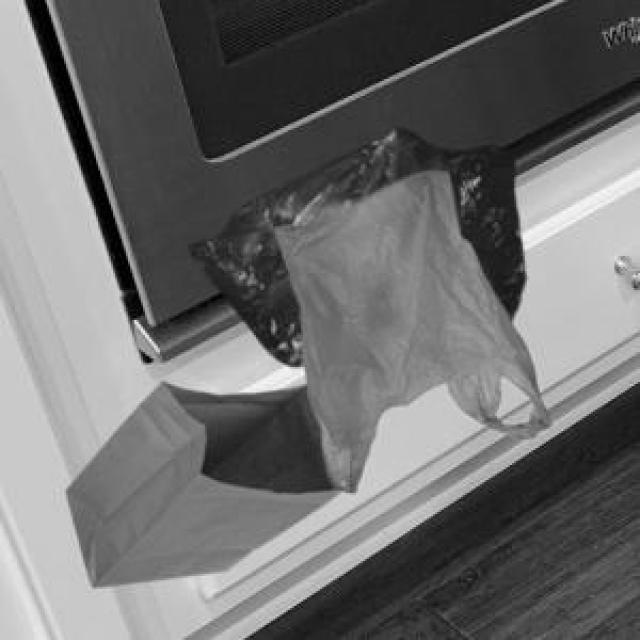paper: (62, 378, 337, 582)
